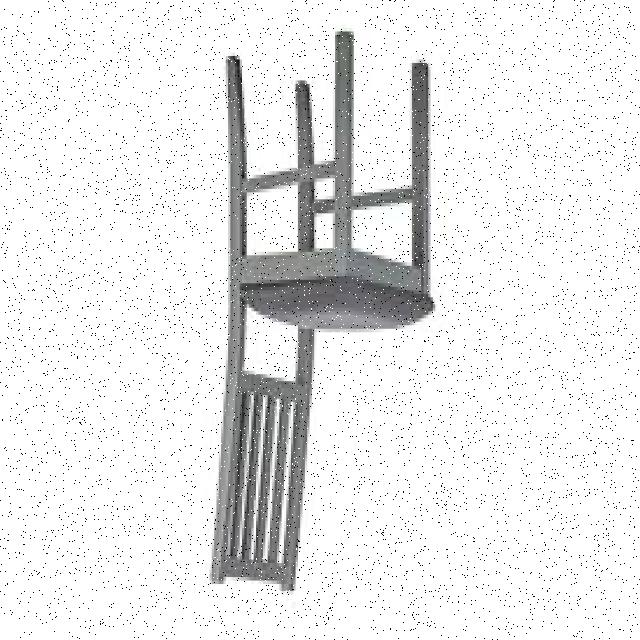bottle: (207, 28, 437, 599)
